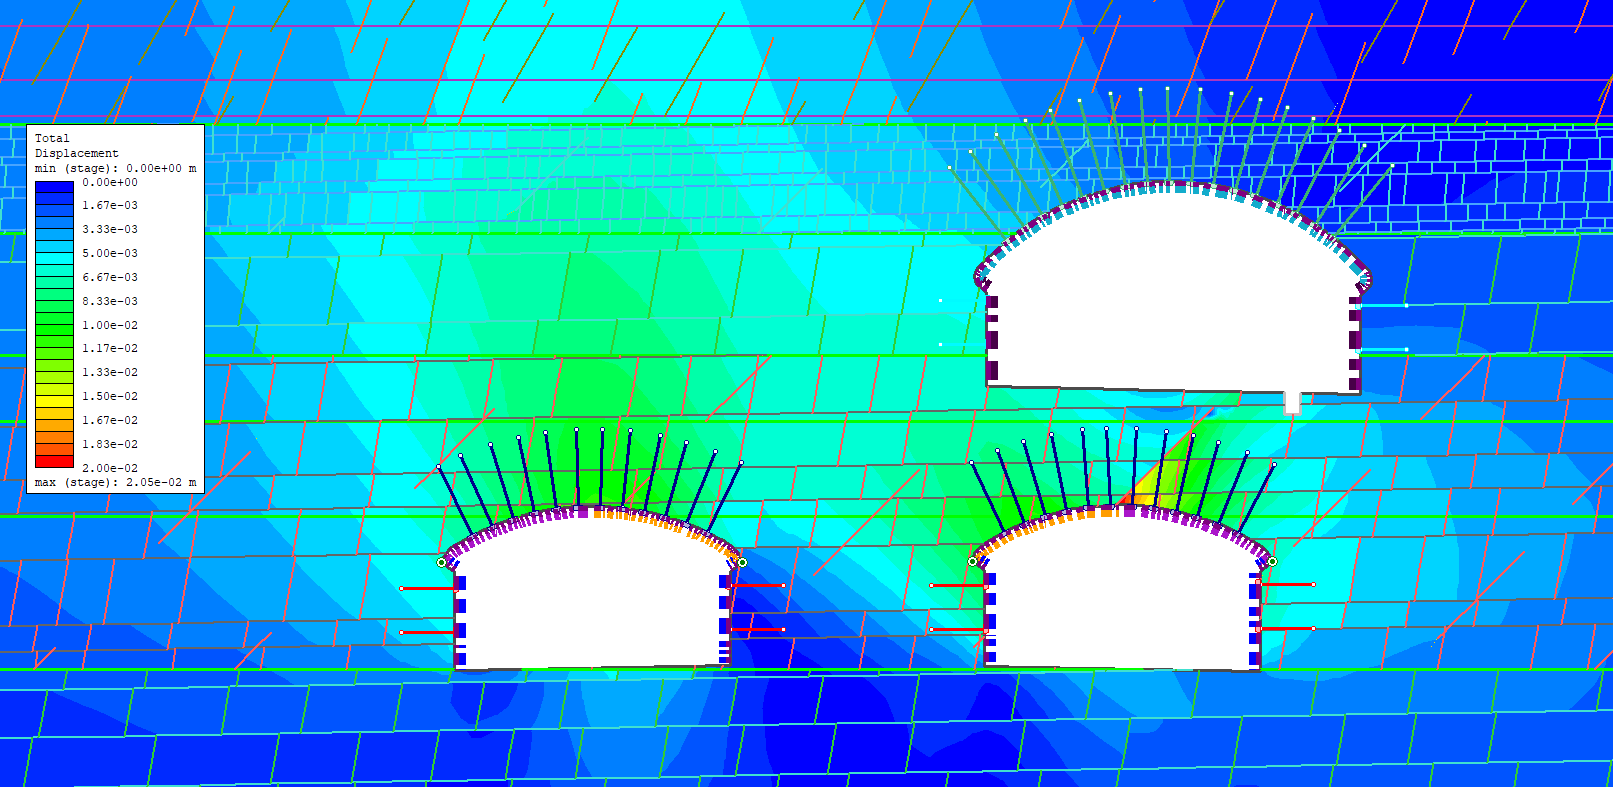crown: (1072, 480, 1174, 500), (1143, 151, 1214, 177), (553, 478, 630, 502)
label: (28, 122, 203, 493)
tunnel-opening: (973, 179, 1364, 389), (971, 502, 1273, 669), (440, 509, 743, 669)
